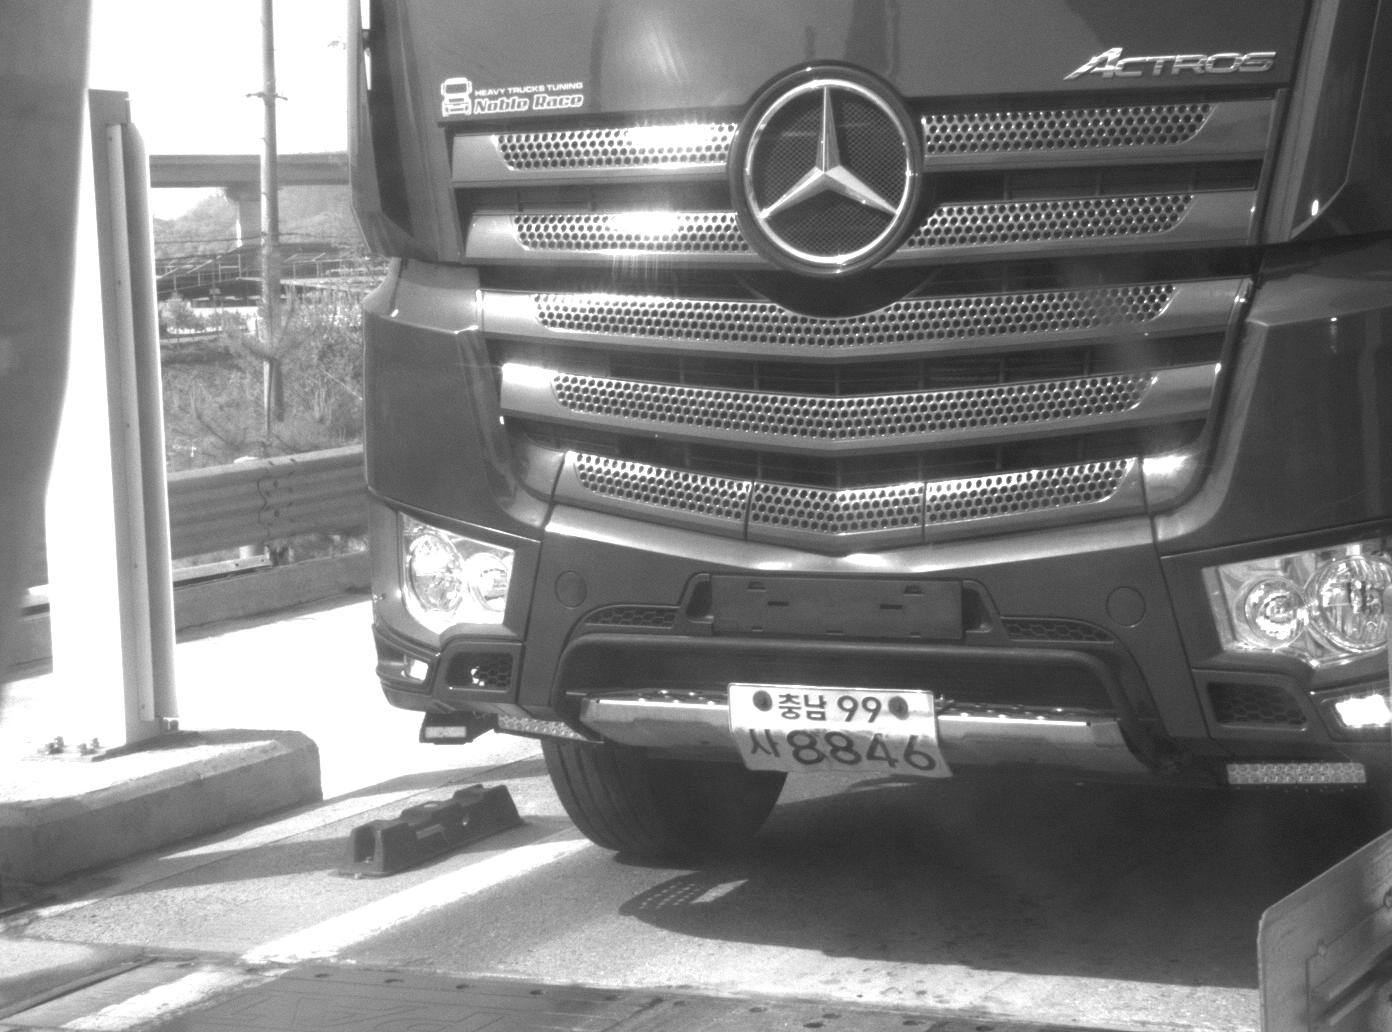car: (362, 1, 1392, 858)
plate: (726, 680, 954, 780)
